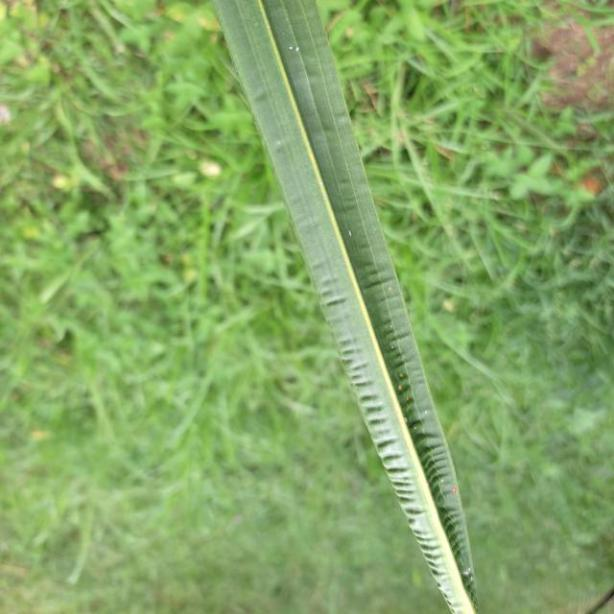Boron: (207, 0, 482, 614)
